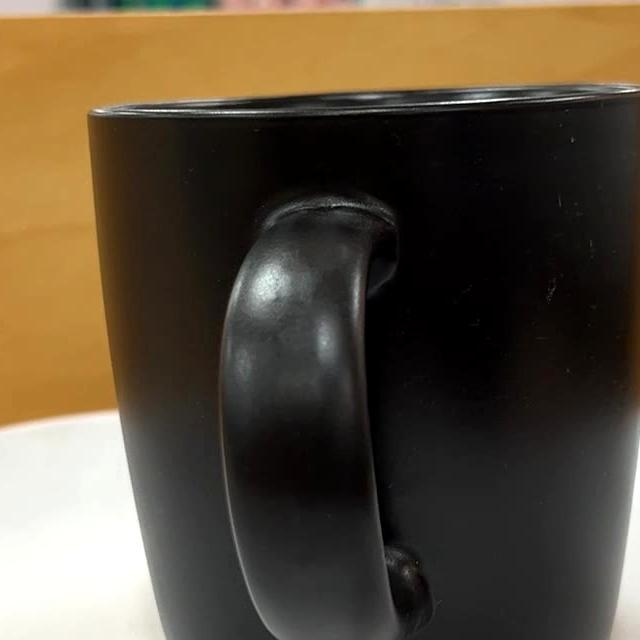cup: (94, 91, 640, 640)
